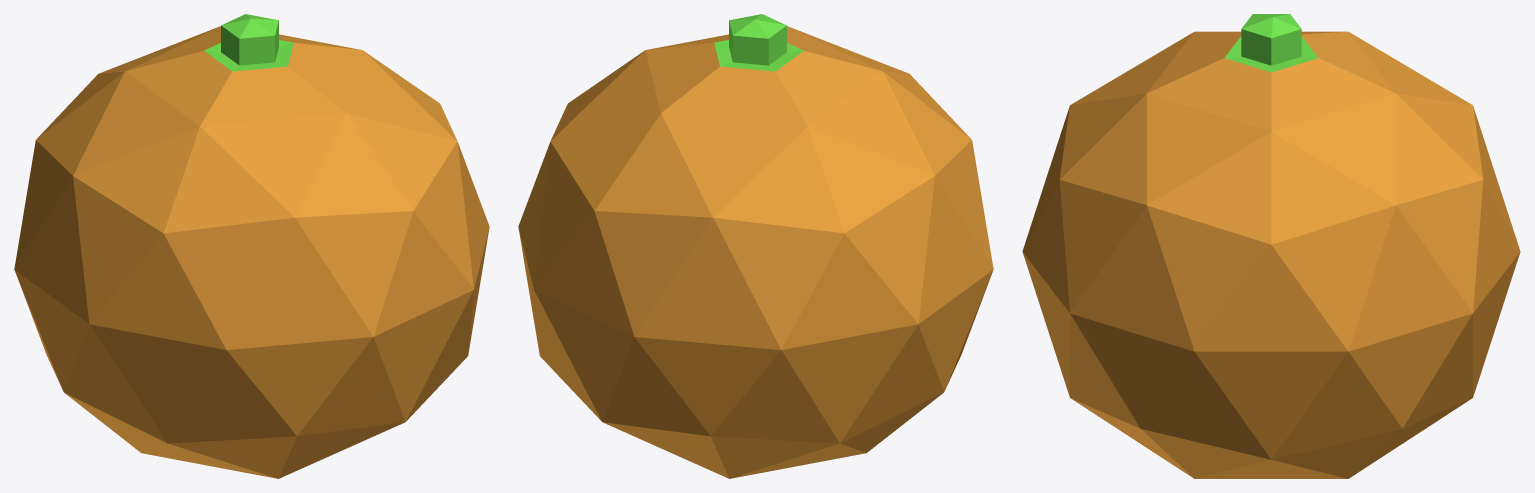
The model's file is portakal.fbx.
3 renders of one model, left to right at view 1: azimuth 30°, elevation 25°; view 2: azimuth 150°, elevation 25°; view 3: azimuth 270°, elevation 25°, orthographic. The views are drawn at different scales.
Parts seen in each view (by area): view 1: Icosphere.001; view 2: Icosphere.001; view 3: Icosphere.001.
Boxes of the visible parts, bbox=[...] form: Icosphere.001: bbox=[14, 14, 489, 478]; Icosphere.001: bbox=[518, 14, 993, 478]; Icosphere.001: bbox=[1022, 14, 1520, 478].
Bounding box in the file's own units: 673 × 654 × 707.
